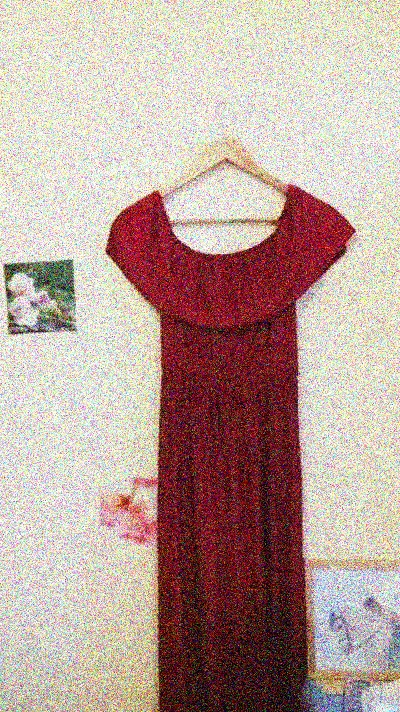Dress: (94, 121, 365, 706)
